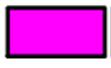pink_zone: (6, 6, 106, 59)
